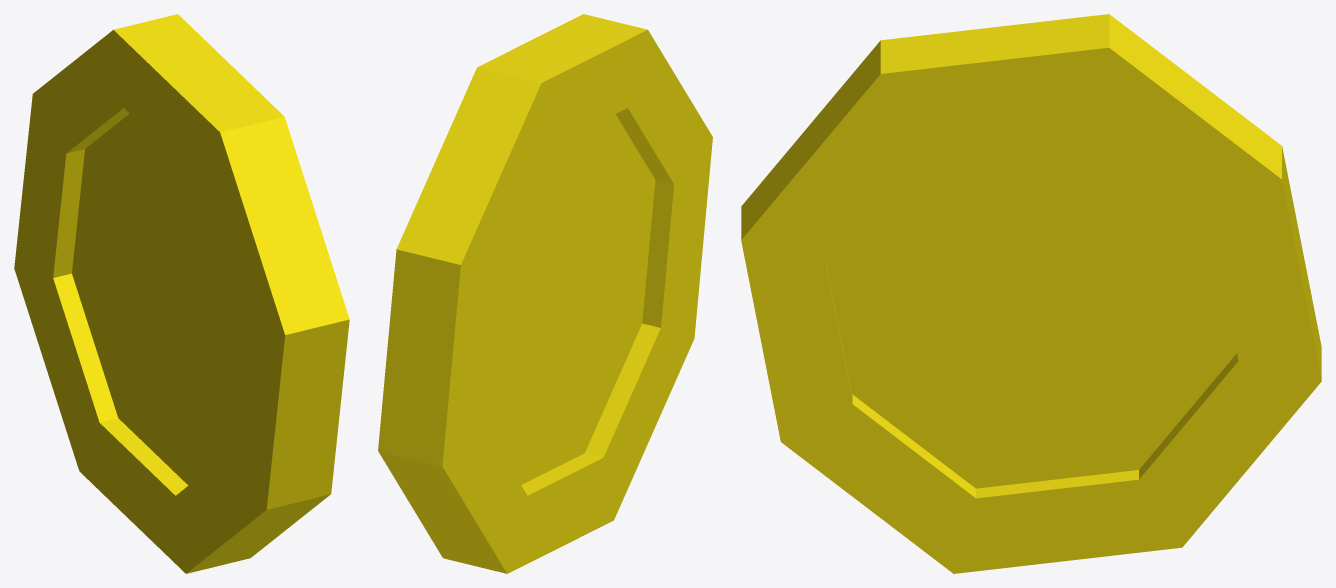
The model's file is Coin.fbx.
3 renders of one model, left to right at view 1: azimuth 30°, elevation 25°; view 2: azimuth 150°, elevation 25°; view 3: azimuth 270°, elevation 25°, orthographic. The views are drawn at different scales.
Visible parts, largest first — view 1: Coin; view 2: Coin; view 3: Coin.
Part boxes in pixels (x1,y1,x2,y2): Coin: [14, 14, 349, 573]; Coin: [378, 14, 712, 573]; Coin: [741, 14, 1321, 573].
Bounding box in the file's own units: 5.11 × 37.19 × 37.19.
